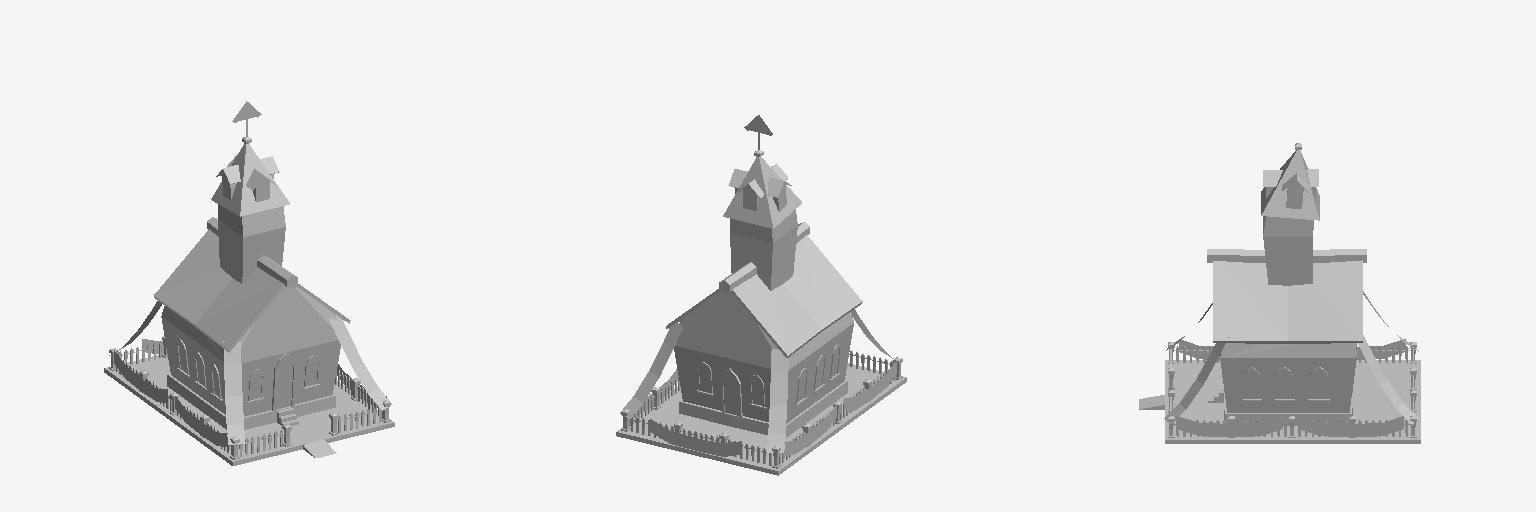
Rendered from house.obj.
3 views of the same model, side by side, from view 1: azimuth 30°, elevation 25°; view 2: azimuth 150°, elevation 25°; view 3: azimuth 270°, elevation 25° (orthographic).
Parts seen in each view (by area): view 1: Church Church_F, Church_F Flower_Rope_Church; view 2: Church Church_F, Church_F Flower_Rope_Church; view 3: Church Church_F, Church_F Flower_Rope_Church.
Part boxes in pixels (x1,y1,x2,y2): Church Church_F: (104, 101, 394, 465); Church_F Flower_Rope_Church: (109, 301, 392, 446); Church Church_F: (616, 115, 906, 475); Church_F Flower_Rope_Church: (620, 309, 900, 456); Church Church_F: (1139, 143, 1420, 443); Church_F Flower_Rope_Church: (1164, 291, 1418, 436).
Bounding box in the file's own units: 26860 × 46258 × 39862.